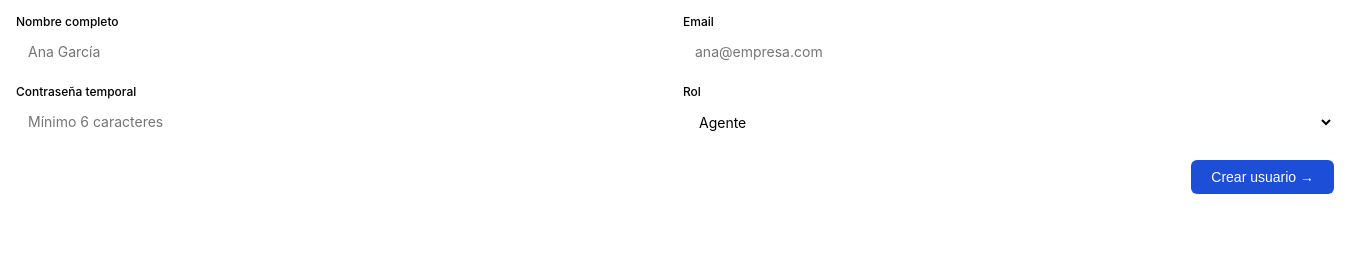
Test: AddUserForm › muestra error genérico ante error desconocido del servidor
Type "Ana" into the field labelled "Nombre completo" at (342, 52), box x1=16 y1=35 x2=667 y2=68
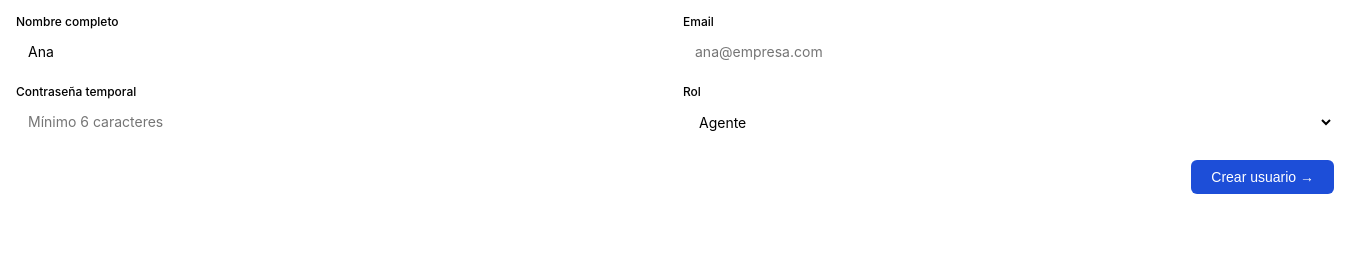
Type "ana@test.com" into the field labelled "Email" at (1008, 52), box x1=683 y1=35 x2=1334 y2=68
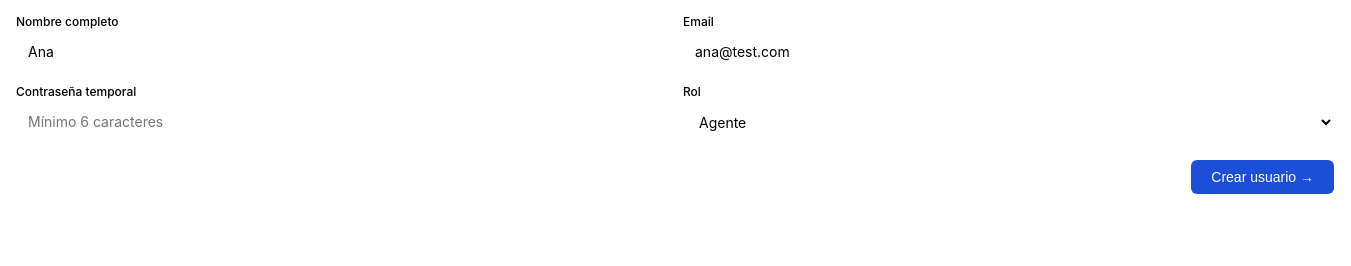
Type "clave123" into the password field labelled "Contraseña temporal" at (342, 122), box x1=16 y1=105 x2=667 y2=138
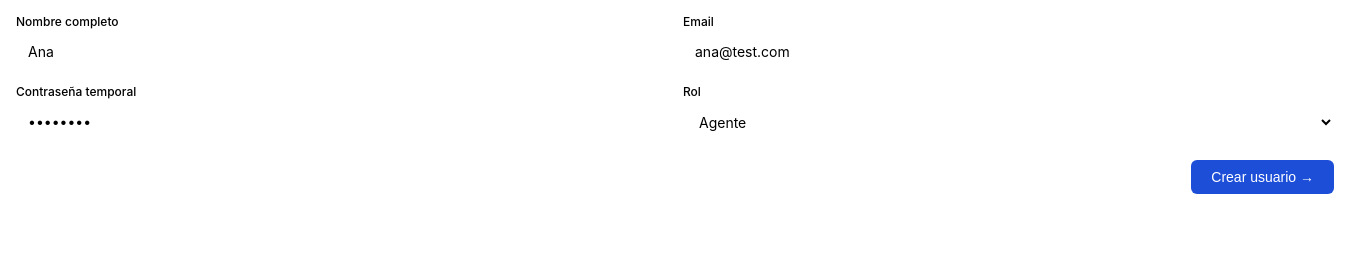
Click the button "Crear usuario →" at (1263, 177), box x1=1191 y1=160 x2=1334 y2=194
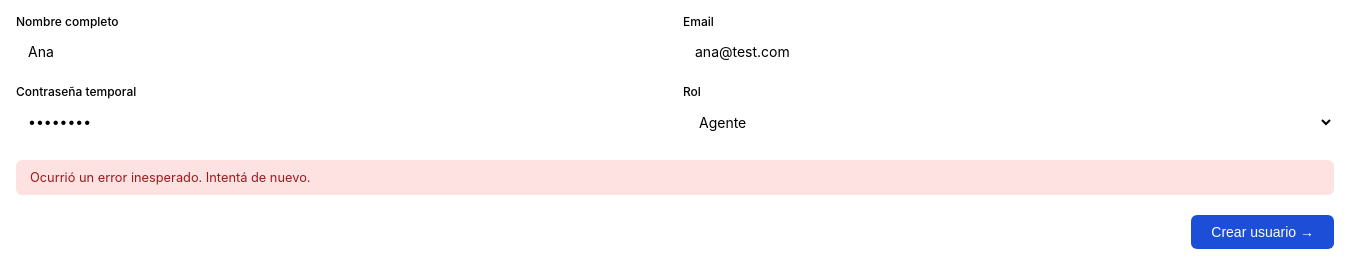
Now the message shows "error inesperado", box x1=30 y1=170 x2=310 y2=185
